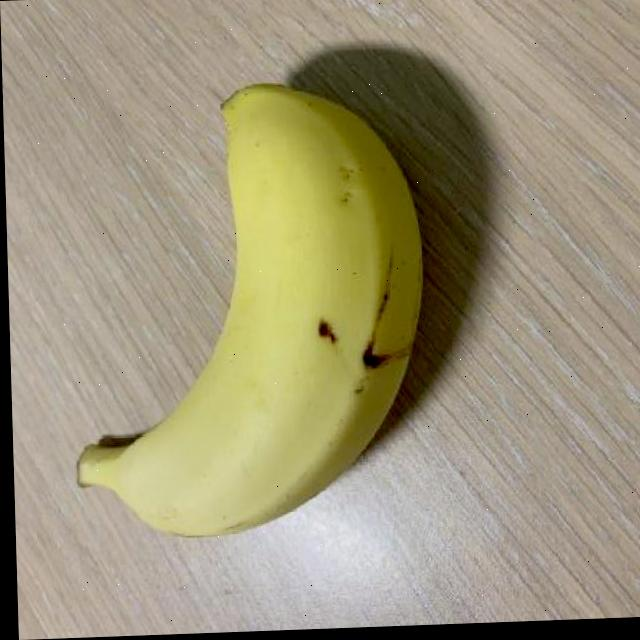banana: (56, 69, 438, 545)
